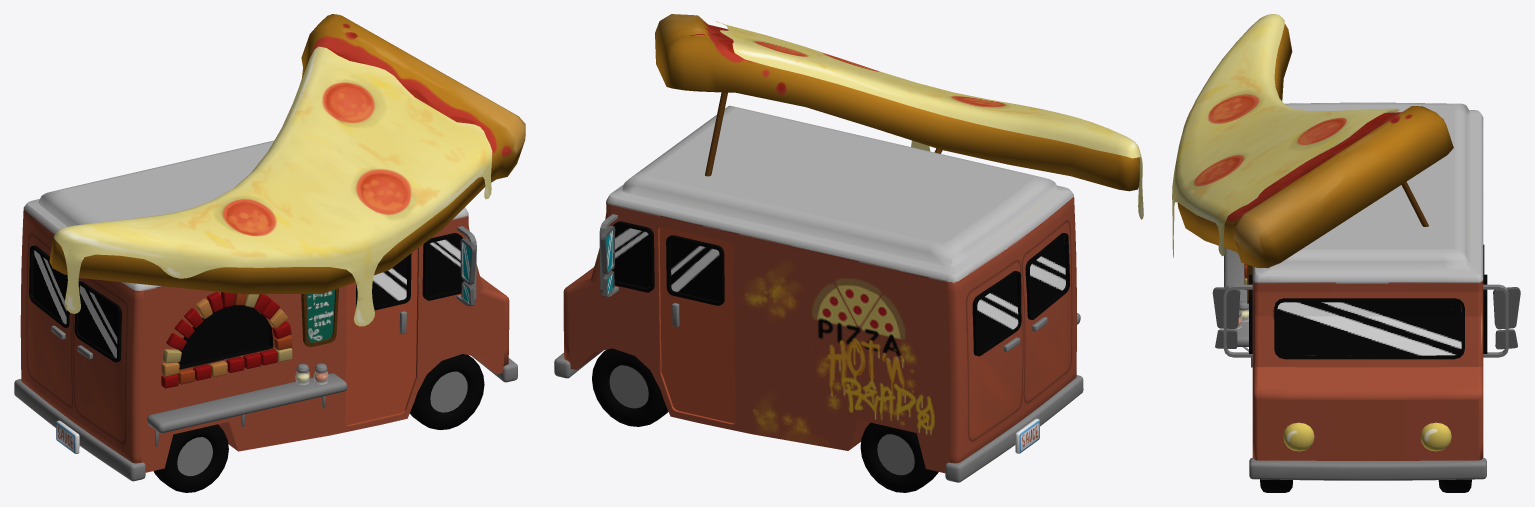
The model's file is pizza_food_vendor_truck.glb.
3 renders of one model, left to right at view 1: azimuth 30°, elevation 25°; view 2: azimuth 150°, elevation 25°; view 3: azimuth 270°, elevation 25°, orthographic. The views are drawn at different scales.
Visible parts, largest first — view 1: Truck; view 2: Truck; view 3: Truck.
Part boxes in pixels (x1,y1,x2,y2): Truck: [14, 14, 525, 492]; Truck: [554, 14, 1143, 492]; Truck: [1172, 14, 1520, 492].
Size of the model in its own units: 1734 by 1301 by 1130.
10 materials, 8 textured.
